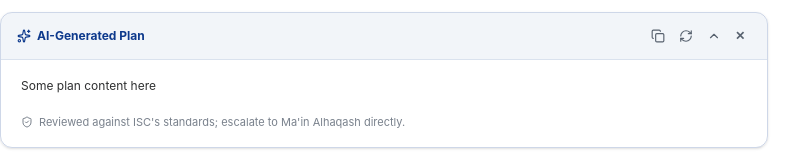
Test: AIPlanPanel — result panel controls (authenticated) › Collapse button hides the result content
The image size is (785, 166).
Expected: the text "Some plan content here" is shown, left=21, top=78, right=156, bottom=93
Click the button titled "Collapse" at [714, 36], box left=701, top=23, right=727, bottom=49
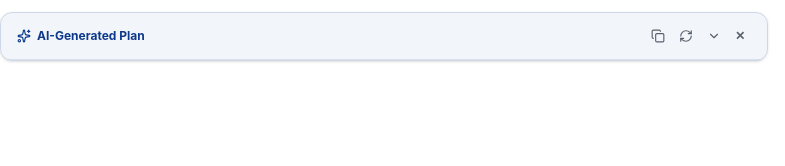
Expected: the text "Some plan content here" is gone
